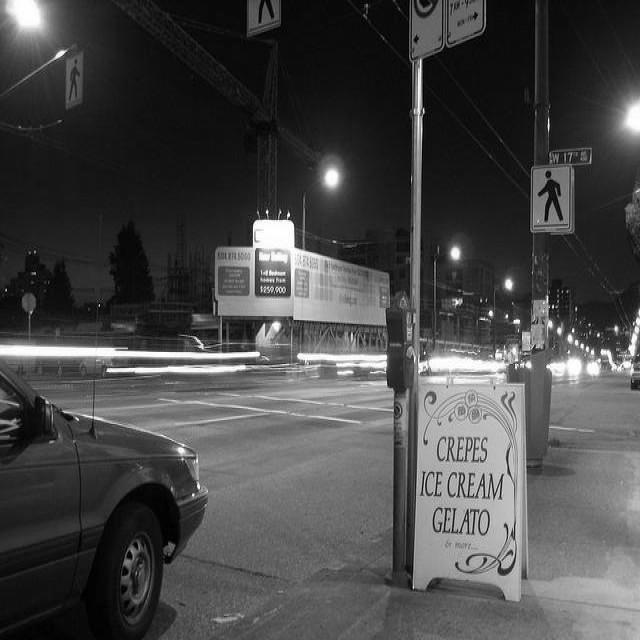vehicle: (0, 361, 206, 629), (184, 336, 205, 352), (631, 355, 640, 389)
